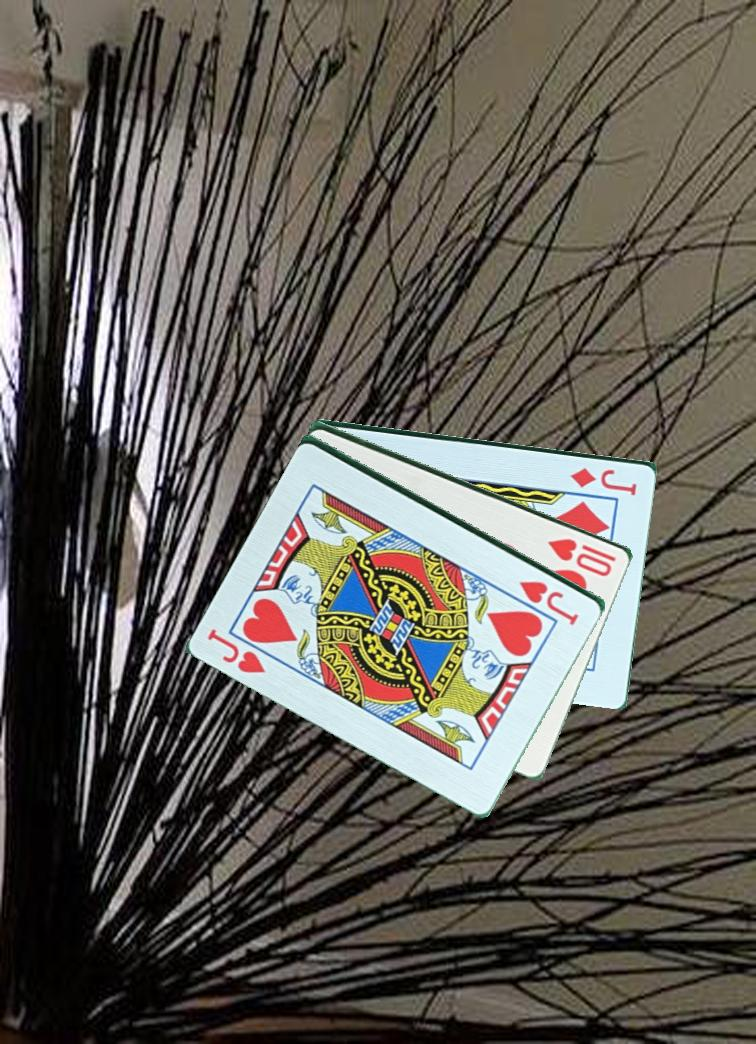jd: (567, 463, 641, 497)
jh: (204, 625, 270, 677), (516, 577, 583, 626)
th: (544, 534, 620, 579)
